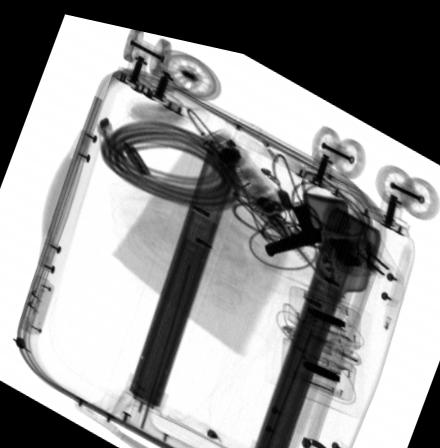Gun: (264, 190, 321, 245)
